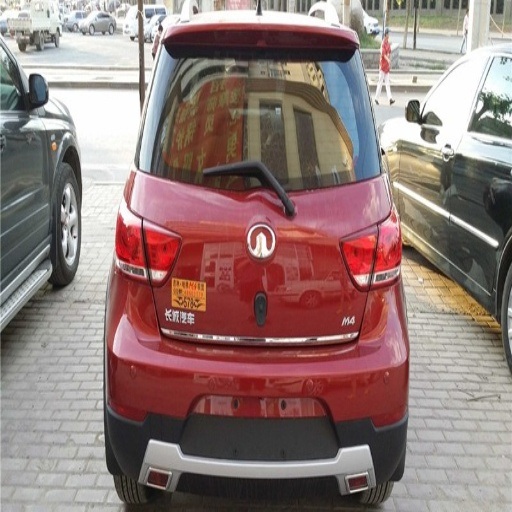back_bumper: (114, 270, 402, 489)
back_glass: (144, 38, 371, 189)
back_left_door: (461, 56, 511, 211)
back_right_light: (372, 212, 400, 288)
trunk: (135, 174, 379, 353)
